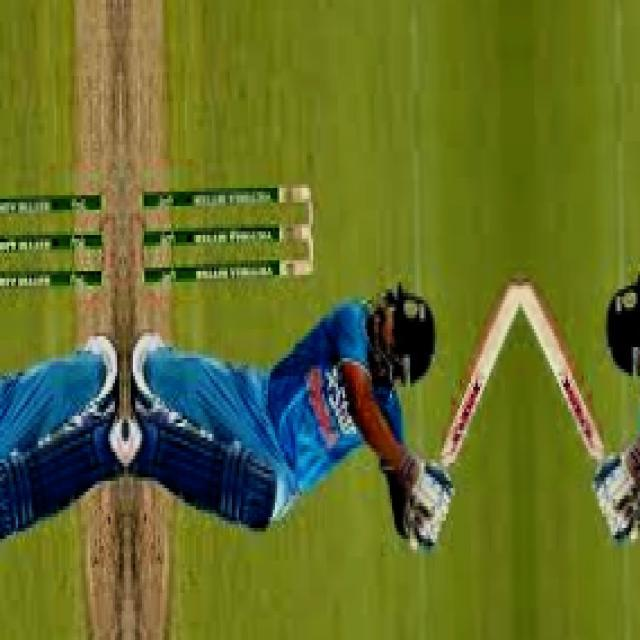bat: (427, 281, 525, 468)
